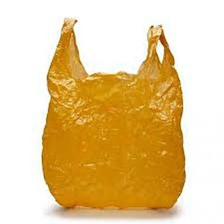plastic_bag: (34, 11, 194, 218)
